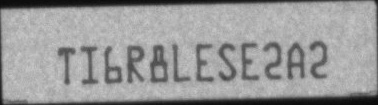2: (309, 40, 328, 80), (263, 41, 282, 79)
6: (104, 45, 122, 84)
8: (149, 44, 168, 82)
A: (286, 42, 306, 79)
E: (195, 43, 215, 83), (240, 42, 260, 81)
I: (81, 46, 99, 85)
L: (172, 43, 191, 83)
R: (127, 44, 144, 82)
S: (218, 42, 237, 82)
T: (58, 48, 76, 84)
